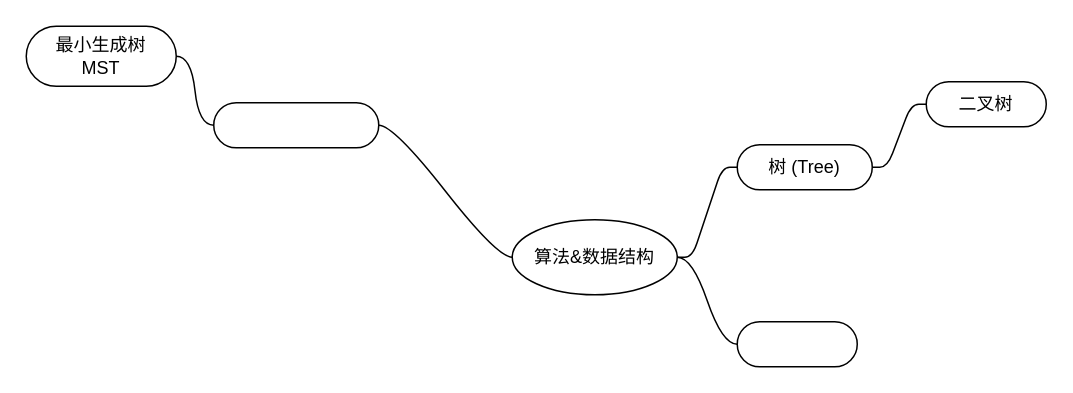
This 1073x393 diagram has some shape labels left out. Each missing label, with the centre of its shape:
前缀和: [796,343]
图论 (Graph): [295,124]
